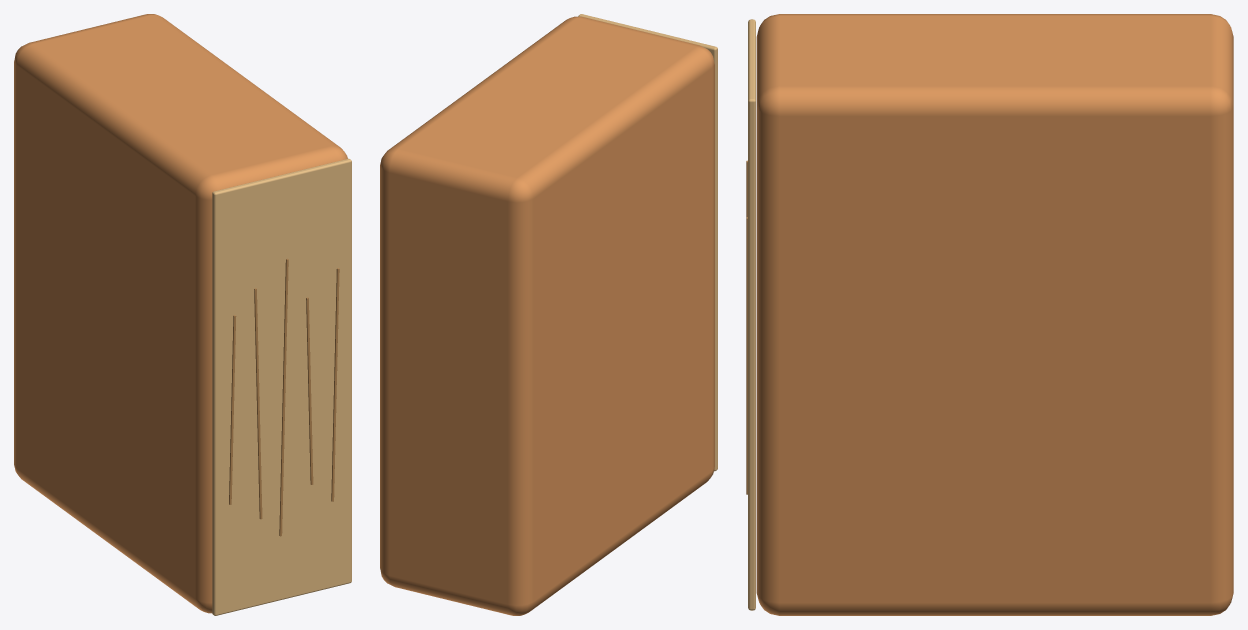
The model's file is play-orange-block.glb.
3 renders of one model, left to right at view 1: azimuth 30°, elevation 25°; view 2: azimuth 150°, elevation 25°; view 3: azimuth 270°, elevation 25°, orthographic. The views are drawn at different scales.
Parts seen in each view (by area): view 1: Block_Painted_Body, Block_Wood_End, Block_End_Grain_3, Block_End_Grain_5, Block_End_Grain_2, Block_End_Grain_1, Block_End_Grain_4; view 2: Block_Painted_Body, Block_Wood_End; view 3: Block_Painted_Body, Block_Wood_End.
Part boxes in pixels (bbox=[...]): Block_Painted_Body: bbox=[14, 14, 347, 613]; Block_Wood_End: bbox=[212, 158, 351, 615]; Block_End_Grain_3: bbox=[279, 258, 288, 536]; Block_End_Grain_5: bbox=[331, 268, 339, 501]; Block_End_Grain_2: bbox=[254, 288, 262, 519]; Block_End_Grain_1: bbox=[229, 315, 236, 504]; Block_End_Grain_4: bbox=[306, 297, 313, 484]; Block_Painted_Body: bbox=[380, 16, 714, 615]; Block_Wood_End: bbox=[578, 14, 717, 471]; Block_Painted_Body: bbox=[756, 14, 1233, 615]; Block_Wood_End: bbox=[748, 19, 755, 610].
Size of the model in its own units: 0.046 by 0.127 by 0.1063.
